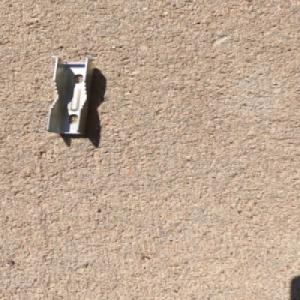ClampPart: (42, 55, 97, 137)
